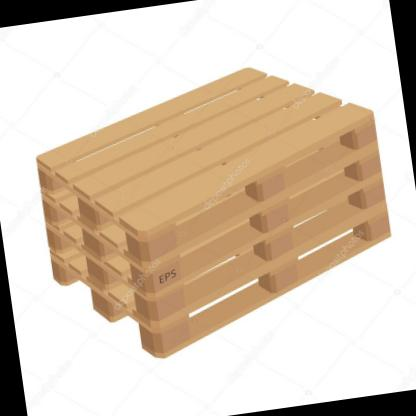BoxFace: (34, 64, 380, 266), (49, 204, 395, 362)
